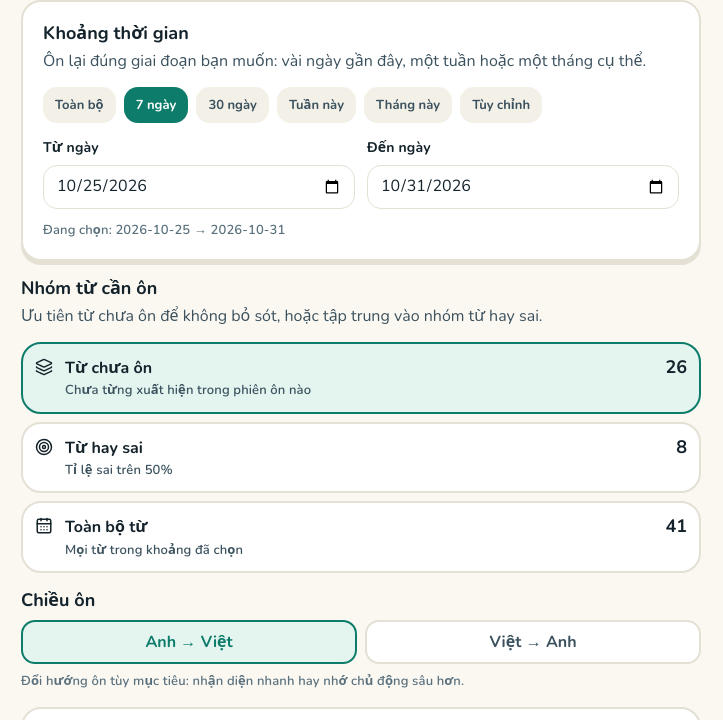
Test: ReviewConfigPage — the window, the group, the count › caps the count at what the chosen group actually has
Click the button "Từ hay sai Tỉ lệ sai trên 50% 8": coordinates (104, 448) [21,422,701,493]
(page scrolled)
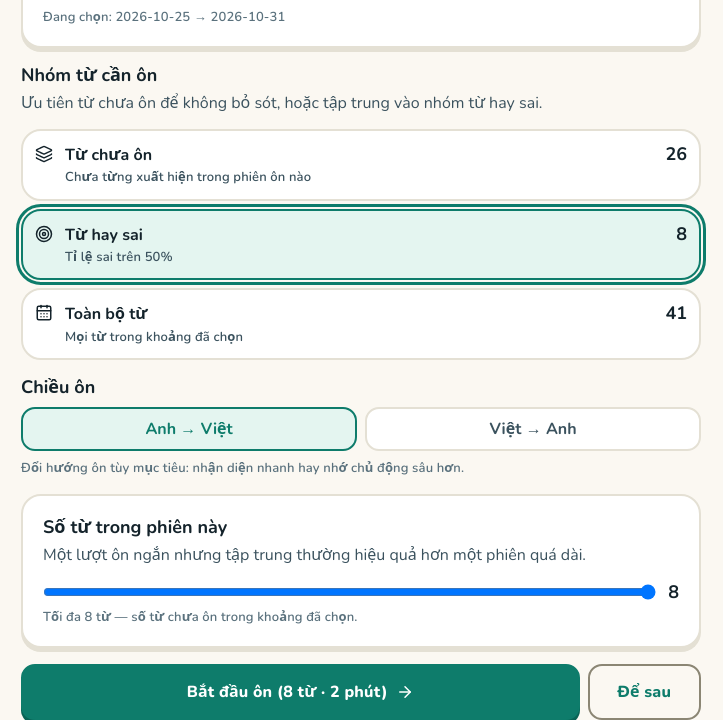
expect the slider holds "8": met, box [43,584,656,600]
expect the button "Bắt đầu ôn (8 từ · 2 phút)" is shown: met, box [21,664,580,719]
